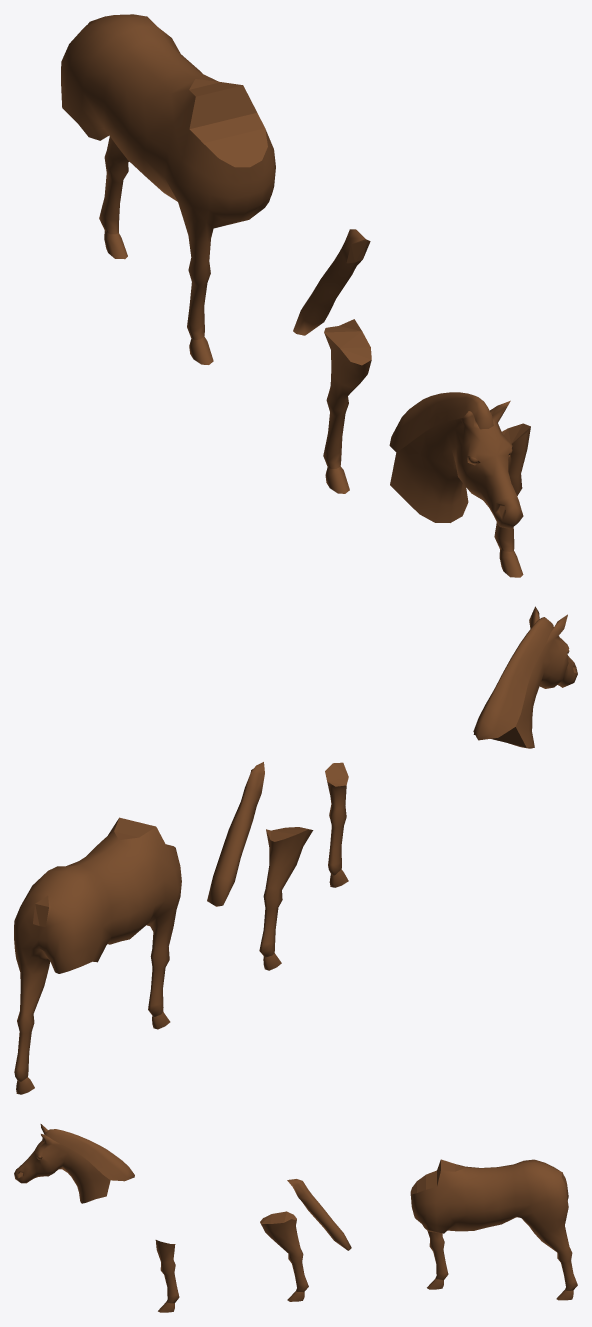
File: cavalo.fbx
3 renders of one model, top to bottom at view 1: azimuth 30°, elevation 25°; view 2: azimuth 150°, elevation 25°; view 3: azimuth 270°, elevation 25°, orthographic. The views are drawn at different scales.
Visible parts, largest first — view 1: horse_001.003, horse_001.001, horse_001.004, horse_001.002, horse_001.005; view 2: horse_001.003, horse_001.001, horse_001.004, horse_001.002, horse_001.005; view 3: horse_001.003, horse_001.001, horse_001.004, horse_001.002, horse_001.005.
Boxes of the visible parts, x1,y1,x2,y2 form: horse_001.003: (61, 14, 275, 364); horse_001.001: (389, 392, 523, 528); horse_001.004: (323, 319, 371, 493); horse_001.002: (293, 229, 370, 335); horse_001.005: (494, 423, 530, 577); horse_001.003: (14, 817, 181, 1094); horse_001.001: (473, 606, 577, 748); horse_001.004: (259, 827, 313, 970); horse_001.002: (207, 762, 264, 906); horse_001.005: (325, 762, 348, 887); horse_001.003: (410, 1159, 577, 1300); horse_001.001: (14, 1124, 134, 1203); horse_001.004: (260, 1211, 308, 1301); horse_001.002: (287, 1179, 351, 1250); horse_001.005: (155, 1240, 179, 1312).
Size of the model in its own units: 118 by 156 by 542.
